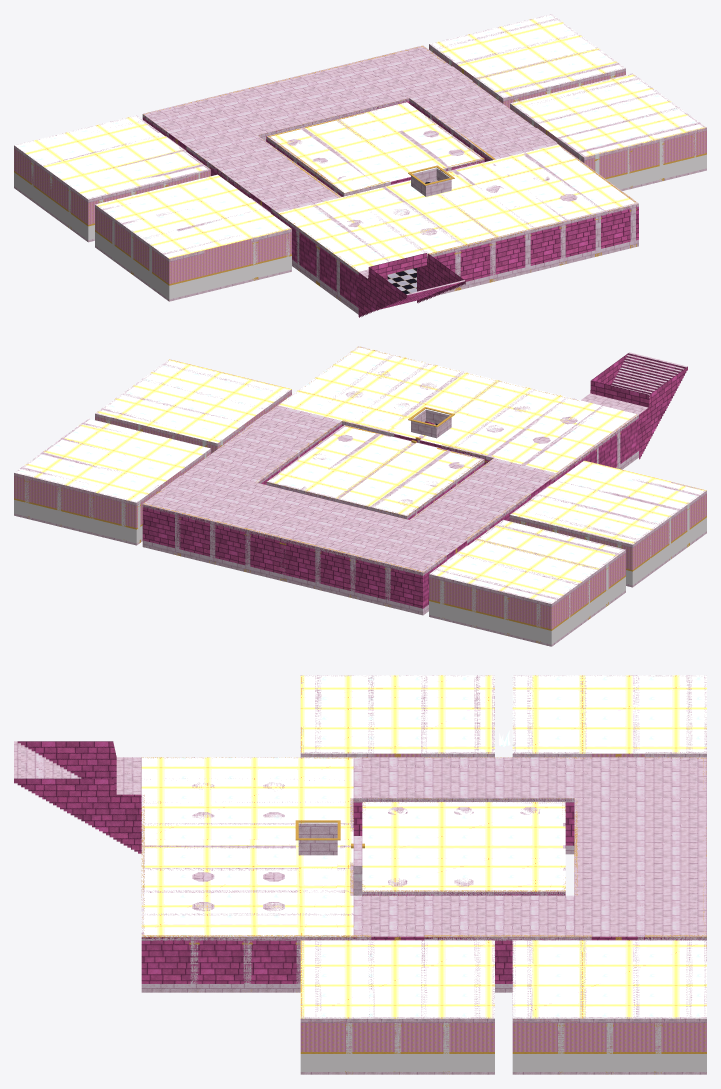
File: citadel_undercroft.glb
The picture shows the model from 3 angles, top to bottom: view 1: azimuth 30°, elevation 25°; view 2: azimuth 150°, elevation 25°; view 3: azimuth 270°, elevation 25°; orthographic projection. The views are drawn at different scales.
Parts seen in each view (by area): view 1: undercroft_Painted_Sky, undercroft_Citadel_Limestone, undercroft_Citadel_Stone, undercroft_Princess_Wallpaper, undercroft_Lacquer_White, undercroft_Citadel_Gold, undercroft_Citadel_Marble; view 2: undercroft_Painted_Sky, undercroft_Citadel_Limestone, undercroft_Citadel_Stone, undercroft_Princess_Wallpaper, undercroft_Lacquer_White, undercroft_Citadel_Gold; view 3: undercroft_Painted_Sky, undercroft_Citadel_Limestone, undercroft_Citadel_Stone, undercroft_Princess_Wallpaper, undercroft_Lacquer_White, undercroft_Citadel_Gold.
Part boxes in pixels (<box>): undercroft_Painted_Sky: <box>14,14,705,271</box>; undercroft_Citadel_Limestone: <box>14,14,706,314</box>; undercroft_Citadel_Stone: <box>142,99,638,317</box>; undercroft_Princess_Wallpaper: <box>14,45,706,284</box>; undercroft_Lacquer_White: <box>14,25,706,299</box>; undercroft_Citadel_Gold: <box>14,46,706,300</box>; undercroft_Citadel_Marble: <box>387,182,430,293</box>; undercroft_Painted_Sky: <box>14,346,706,603</box>; undercroft_Citadel_Limestone: <box>14,346,706,646</box>; undercroft_Citadel_Stone: <box>142,353,687,608</box>; undercroft_Princess_Wallpaper: <box>14,390,706,629</box>; undercroft_Lacquer_White: <box>14,396,706,644</box>; undercroft_Citadel_Gold: <box>14,346,706,643</box>; undercroft_Painted_Sky: <box>141,675,706,1018</box>; undercroft_Citadel_Limestone: <box>14,675,706,1074</box>; undercroft_Citadel_Stone: <box>14,741,706,983</box>; undercroft_Princess_Wallpaper: <box>300,753,706,1051</box>; undercroft_Lacquer_White: <box>300,675,706,1074</box>; undercroft_Citadel_Gold: <box>141,754,706,1074</box>.
Size of the model in its own units: 92 by 10.12 by 78.43.
Materials: 19 (7 with a texture image).
